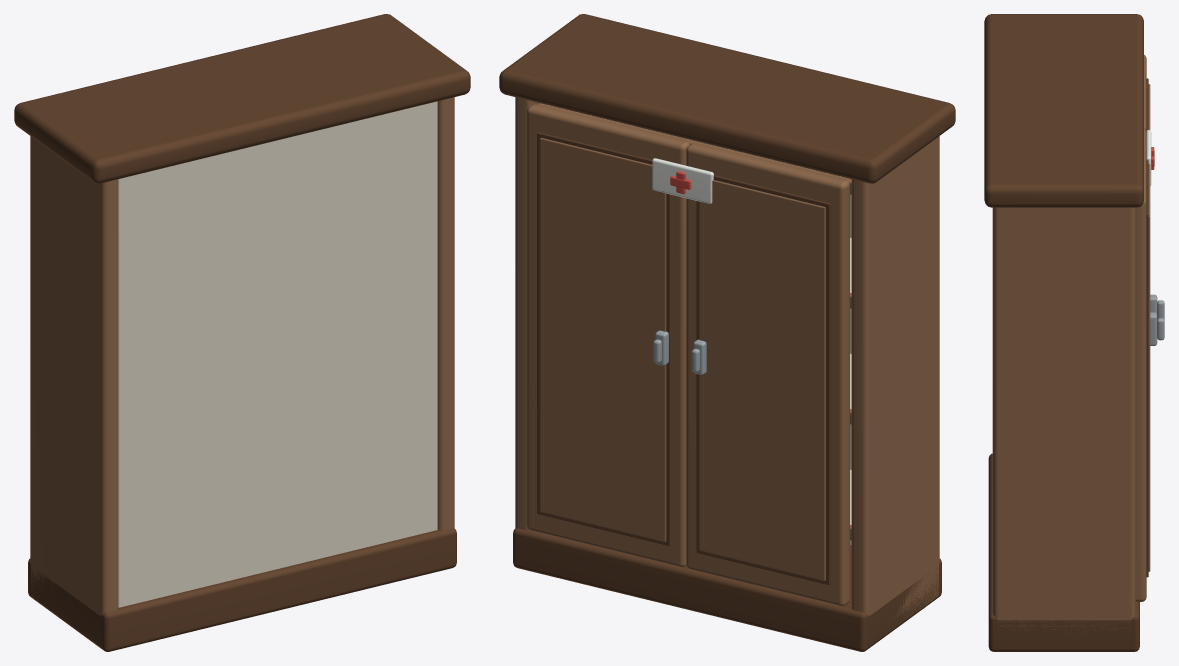
Rendered from UKSCabinetModel.glb.
3 renders of one model, left to right at view 1: azimuth 30°, elevation 25°; view 2: azimuth 150°, elevation 25°; view 3: azimuth 270°, elevation 25°, orthographic. The views are drawn at different scales.
Visible parts, largest first — view 1: Cabinet_Back, Cabinet_Crown, Cabinet_LeftSide, Cabinet_Base, Cabinet_RightSide; view 2: Door_L_InsetFill, Door_R_InsetFill, Cabinet_Crown, Cabinet_LeftSide, DoorLeft_Panel, DoorRight_Panel, Cabinet_Base, Cabinet_RightSide, Door_L_Inset, Door_R_Inset, FirstAidPlaque, Shelf_Front_Lip_4; view 3: Cabinet_RightSide, Cabinet_Crown, Cabinet_Base, DoorRight_Panel, Door_R_Inset, Door_R_InsetFill.
Boxes of the visible parts, x1=… form: Cabinet_Back: x1=118, y1=101, x2=437, y2=607; Cabinet_Crown: x1=14, y1=14, x2=470, y2=183; Cabinet_LeftSide: x1=30, y1=136, x2=118, y2=615; Cabinet_Base: x1=28, y1=528, x2=456, y2=651; Cabinet_RightSide: x1=437, y1=97, x2=454, y2=530; Door_L_InsetFill: x1=699, y1=180, x2=825, y2=580; Door_R_InsetFill: x1=540, y1=138, x2=666, y2=541; Cabinet_Crown: x1=499, y1=14, x2=955, y2=183; Cabinet_LeftSide: x1=851, y1=136, x2=939, y2=622; DoorLeft_Panel: x1=686, y1=143, x2=849, y2=606; DoorRight_Panel: x1=526, y1=104, x2=689, y2=567; Cabinet_Base: x1=513, y1=528, x2=941, y2=651; Cabinet_RightSide: x1=515, y1=97, x2=539, y2=530; Door_L_Inset: x1=696, y1=175, x2=830, y2=585; Door_R_Inset: x1=537, y1=132, x2=670, y2=546; FirstAidPlaque: x1=652, y1=158, x2=713, y2=203; Shelf_Front_Lip_4: x1=538, y1=103, x2=851, y2=194; Cabinet_RightSide: x1=992, y1=207, x2=1135, y2=639; Cabinet_Crown: x1=984, y1=14, x2=1143, y2=207; Cabinet_Base: x1=988, y1=453, x2=1139, y2=651; DoorRight_Panel: x1=1135, y1=129, x2=1146, y2=601; Door_R_Inset: x1=1146, y1=160, x2=1148, y2=577; Door_R_InsetFill: x1=1148, y1=164, x2=1150, y2=571.
Bounding box in the file's own units: 1.98 × 2.48 × 0.8575.
